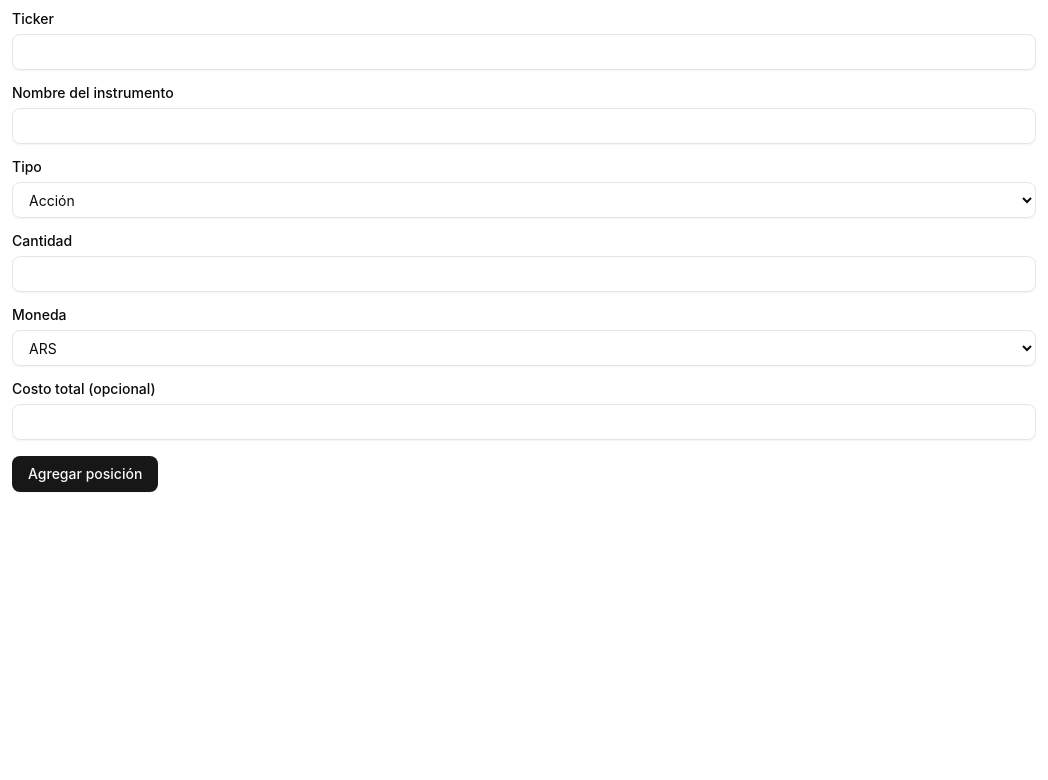
Test case: AddHoldingForm › rejects an empty ticker and an empty instrument name, focusing the first invalid field
The image size is (1048, 780).
In the field labelled "Cantidad": (524, 274) [12, 256, 1036, 292], type "1"
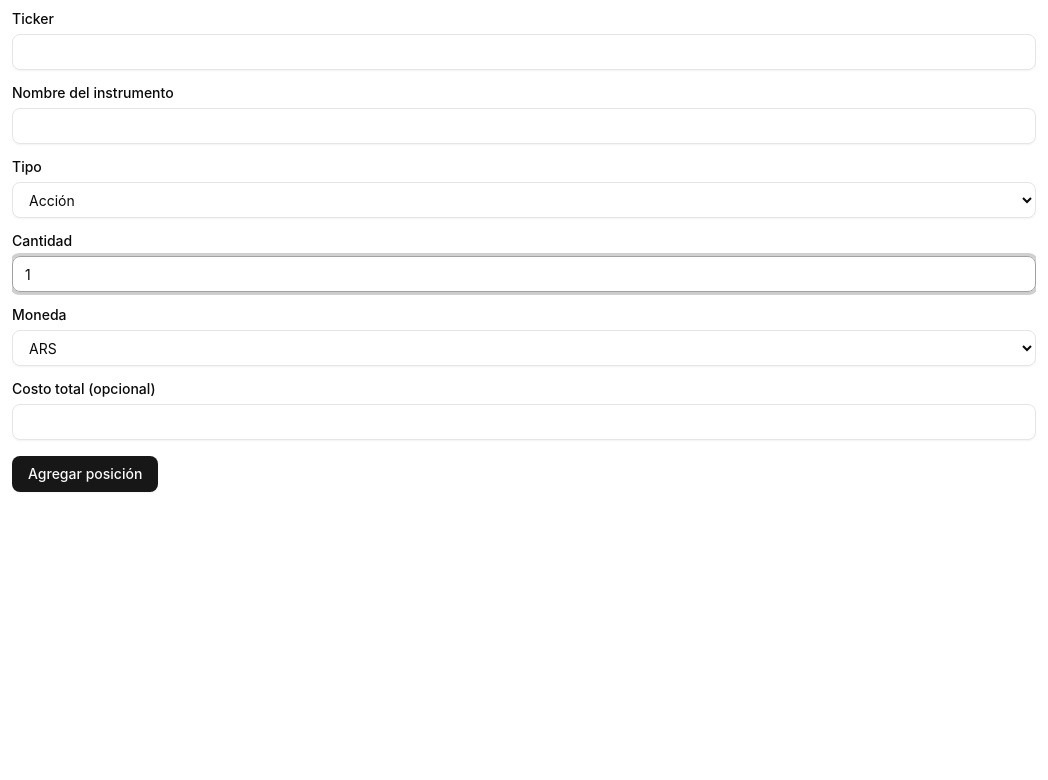
Click the button "Agregar posición": (85, 474) [12, 456, 158, 492]
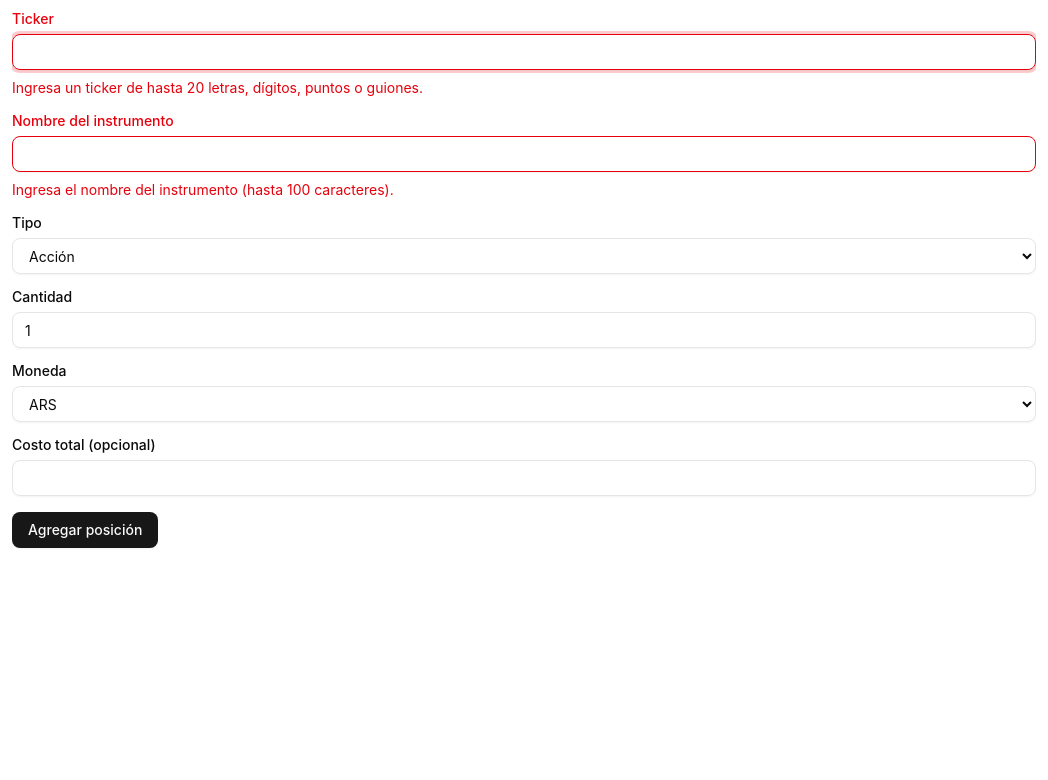
Expected: the text "Ingresa un ticker de hasta 20 letras, dígitos, puntos o guiones." is shown, [12, 79, 423, 96]
Expected: the text "Ingresa el nombre del instrumento (hasta 100 caracteres)." is shown, [12, 181, 394, 198]
